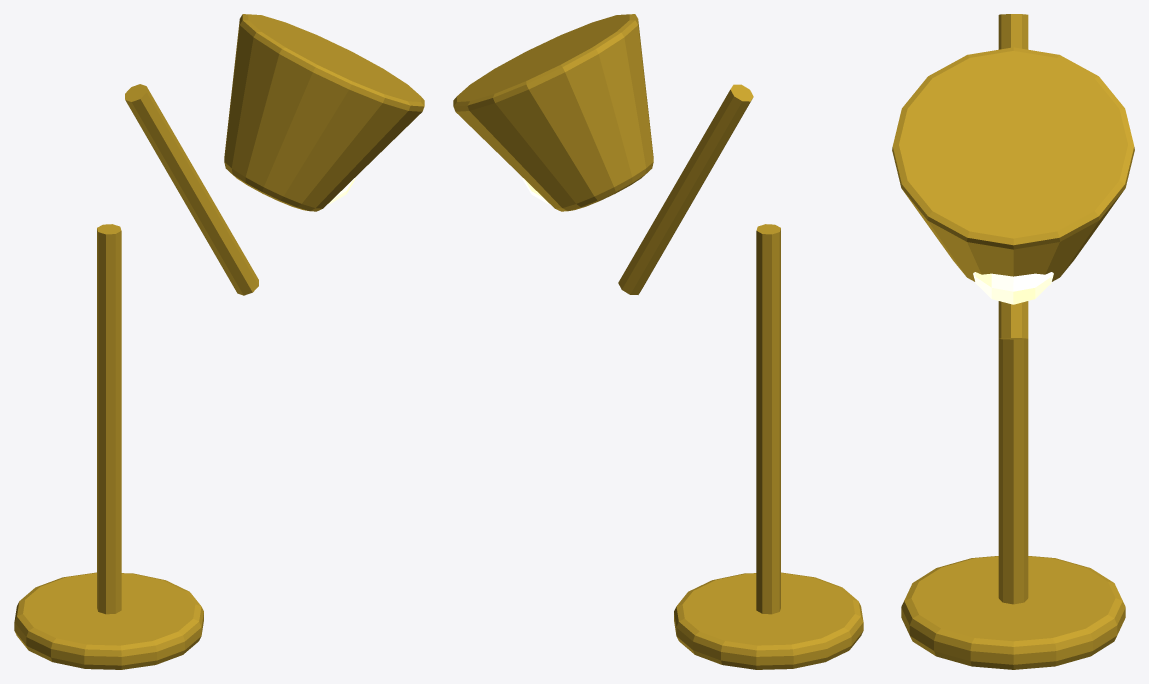
The model's file is desk-lamp.glb.
3 renders of one model, left to right at view 1: azimuth 30°, elevation 25°; view 2: azimuth 150°, elevation 25°; view 3: azimuth 270°, elevation 25°, orthographic. The views are drawn at different scales.
Parts seen in each view (by area): view 1: foot; view 2: foot; view 3: foot.
Boxes of the visible parts, <box> form: foot: <box>14,14,424,669</box>; foot: <box>453,14,863,669</box>; foot: <box>892,14,1134,669</box>.
Size of the model in its own units: 0.4178 by 0.5866 by 0.1946.
